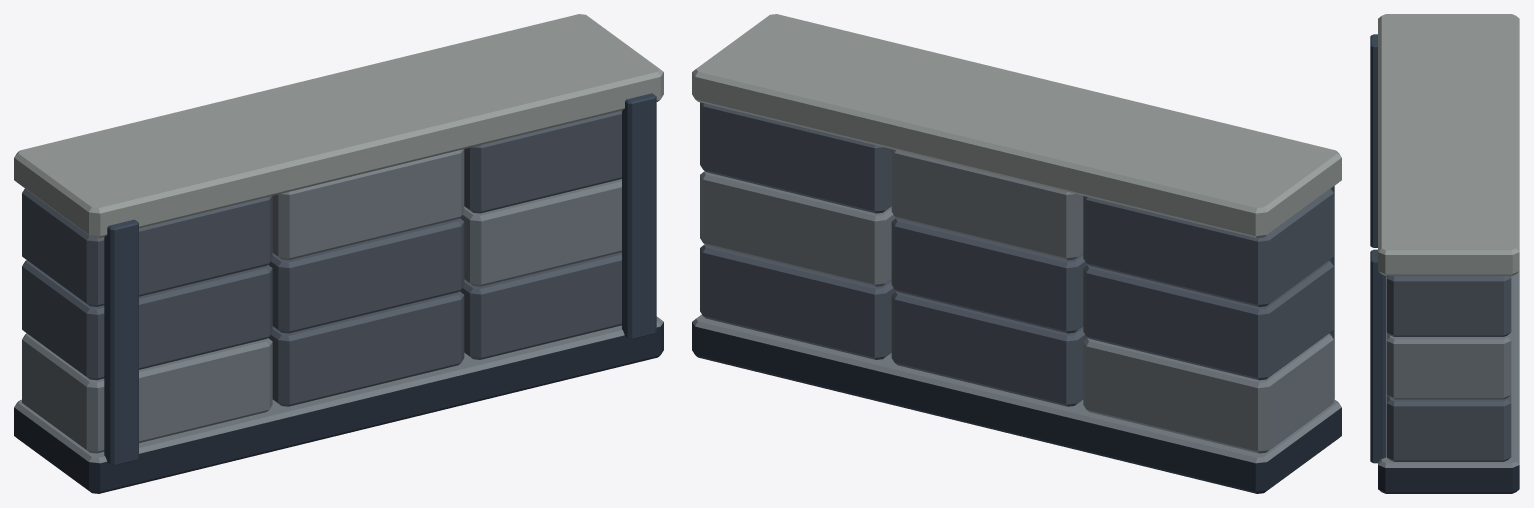
File: wall-straight.glb
The picture shows the model from 3 angles, left to right: view 1: azimuth 30°, elevation 25°; view 2: azimuth 150°, elevation 25°; view 3: azimuth 270°, elevation 25°; orthographic projection. The views are drawn at different scales.
Visible parts, largest first — view 1: wall-straight__body; view 2: wall-straight__body; view 3: wall-straight__body.
Part boxes in pixels (left/top/right/bottom): wall-straight__body: left=14, top=14, right=663, bottom=493; wall-straight__body: left=692, top=14, right=1341, bottom=493; wall-straight__body: left=1370, top=14, right=1519, bottom=493.
Size of the model in its own units: 2 by 0.95 by 0.5275.
